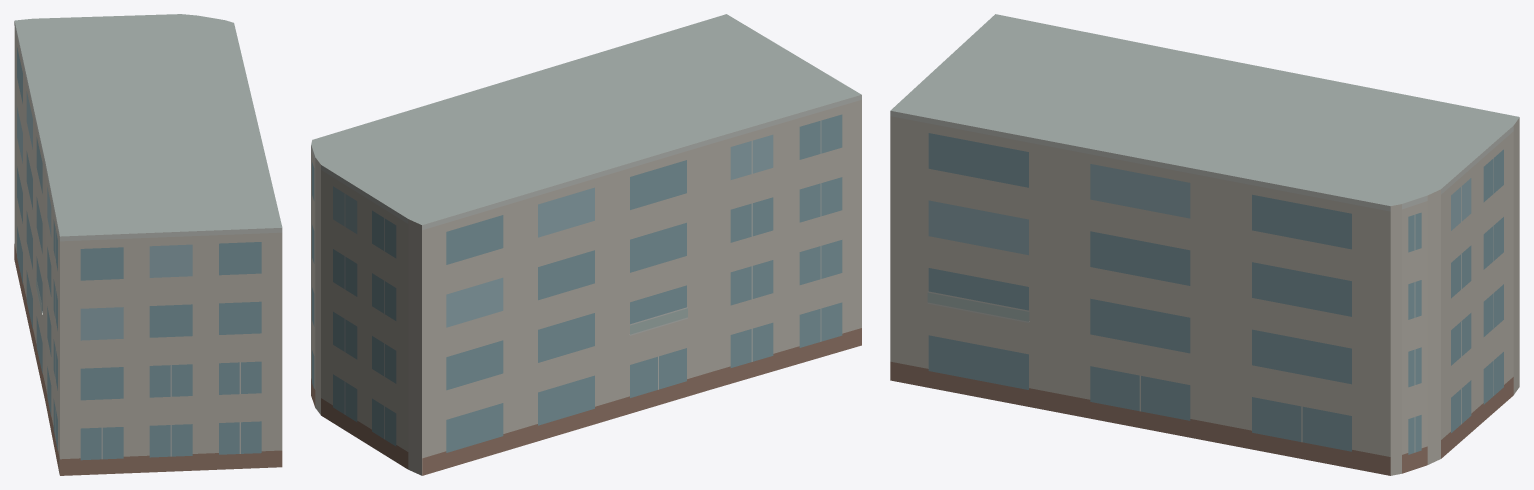
Rendered from survey-upis-32777857.glb.
3 renders of one model, left to right at view 1: azimuth 30°, elevation 25°; view 2: azimuth 150°, elevation 25°; view 3: azimuth 270°, elevation 25°, orthographic. The views are drawn at different scales.
Parts seen in each view (by area): view 1: survey-upis-32777857.tmp; view 2: survey-upis-32777857.tmp; view 3: survey-upis-32777857.tmp.
Boxes of the visible parts, x1,y1,x2,y2 form: survey-upis-32777857.tmp: [14, 14, 282, 475]; survey-upis-32777857.tmp: [311, 14, 861, 475]; survey-upis-32777857.tmp: [890, 14, 1519, 475].
Size of the model in its own units: 18.5 by 12.1 by 25.6.
